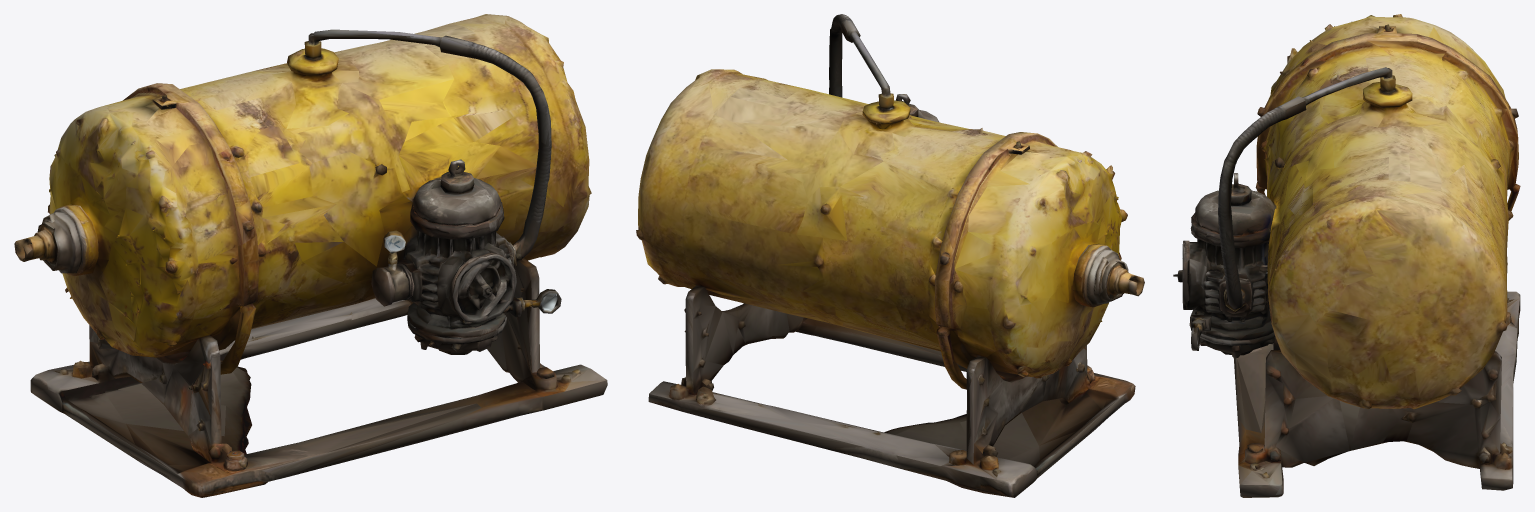
File: diesel_fuel_tank_pump_LOD1.fbx
3 views of the same model, side by side, from view 1: azimuth 30°, elevation 25°; view 2: azimuth 150°, elevation 25°; view 3: azimuth 270°, elevation 25° (orthographic). The views are drawn at different scales.
Parts seen in each view (by area): view 1: diesel_fuel_tank_pump.001; view 2: diesel_fuel_tank_pump.001; view 3: diesel_fuel_tank_pump.001.
Part boxes in pixels (x1,y1,x2,y2): diesel_fuel_tank_pump.001: [14, 14, 607, 497]; diesel_fuel_tank_pump.001: [636, 14, 1144, 497]; diesel_fuel_tank_pump.001: [1173, 14, 1520, 497].
Size of the model in its own units: 2.45 by 1.65 by 1.49.
Materials: 1 (1 with a texture image).
